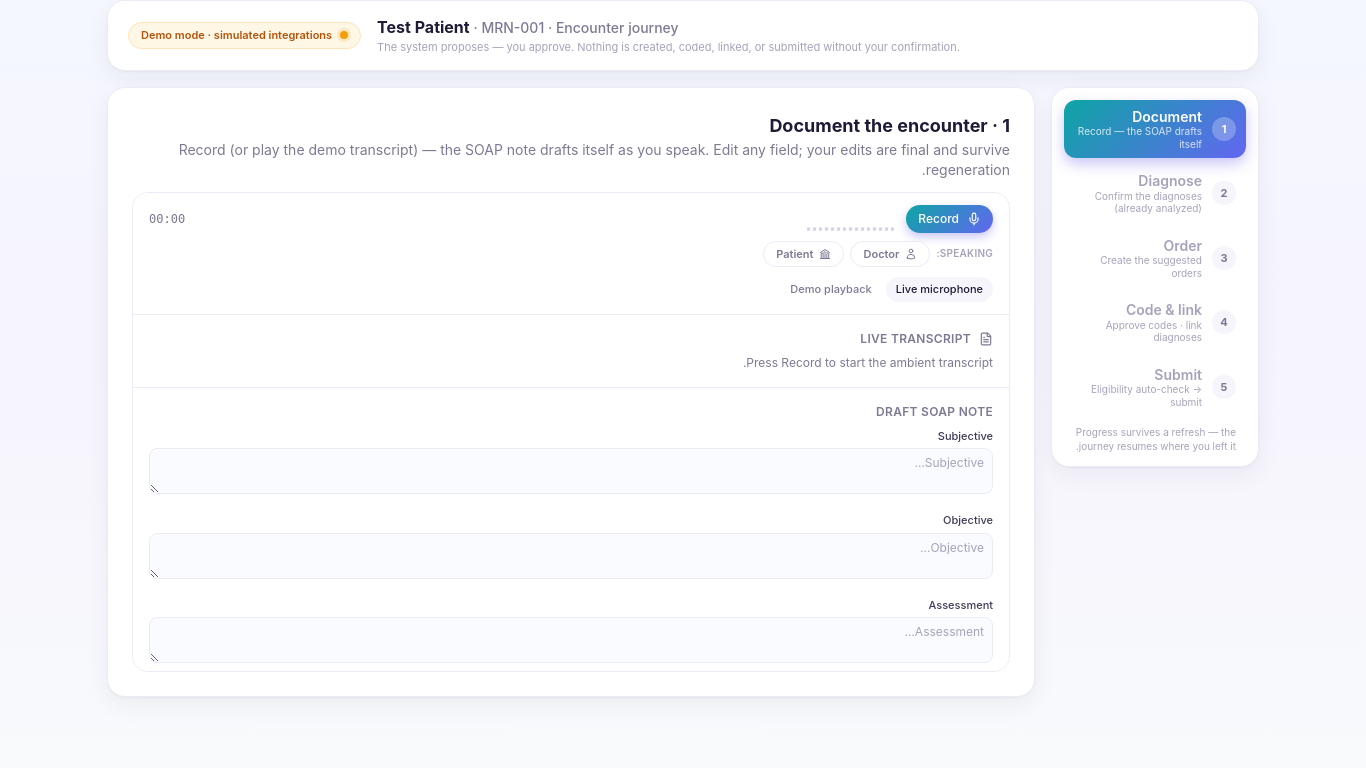
Test case: JourneyView › veto empties the selection and disables creation
Click the button "3 Order Create the suggested orders" at (1155, 258), box [1064, 228, 1246, 287]
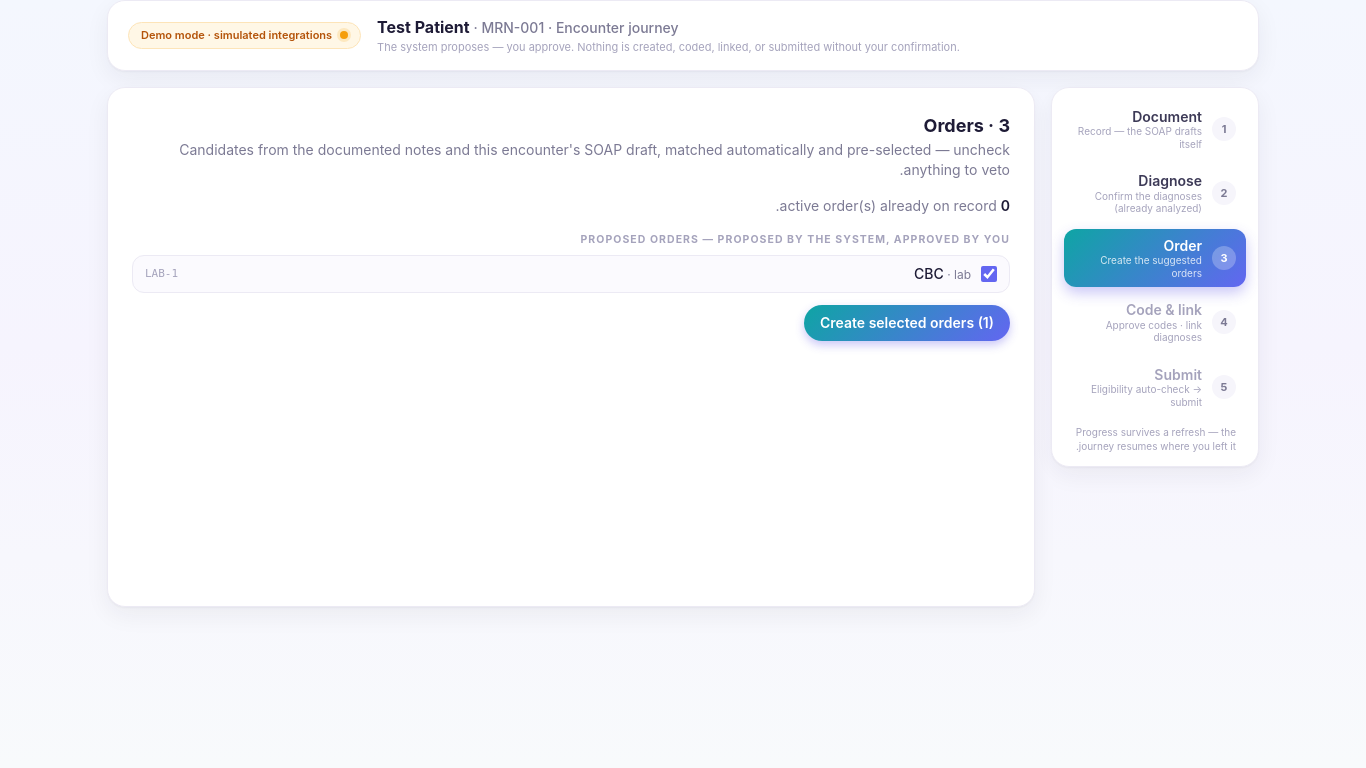
Click the checkbox named "CBC" at (989, 274), box [981, 266, 997, 282]
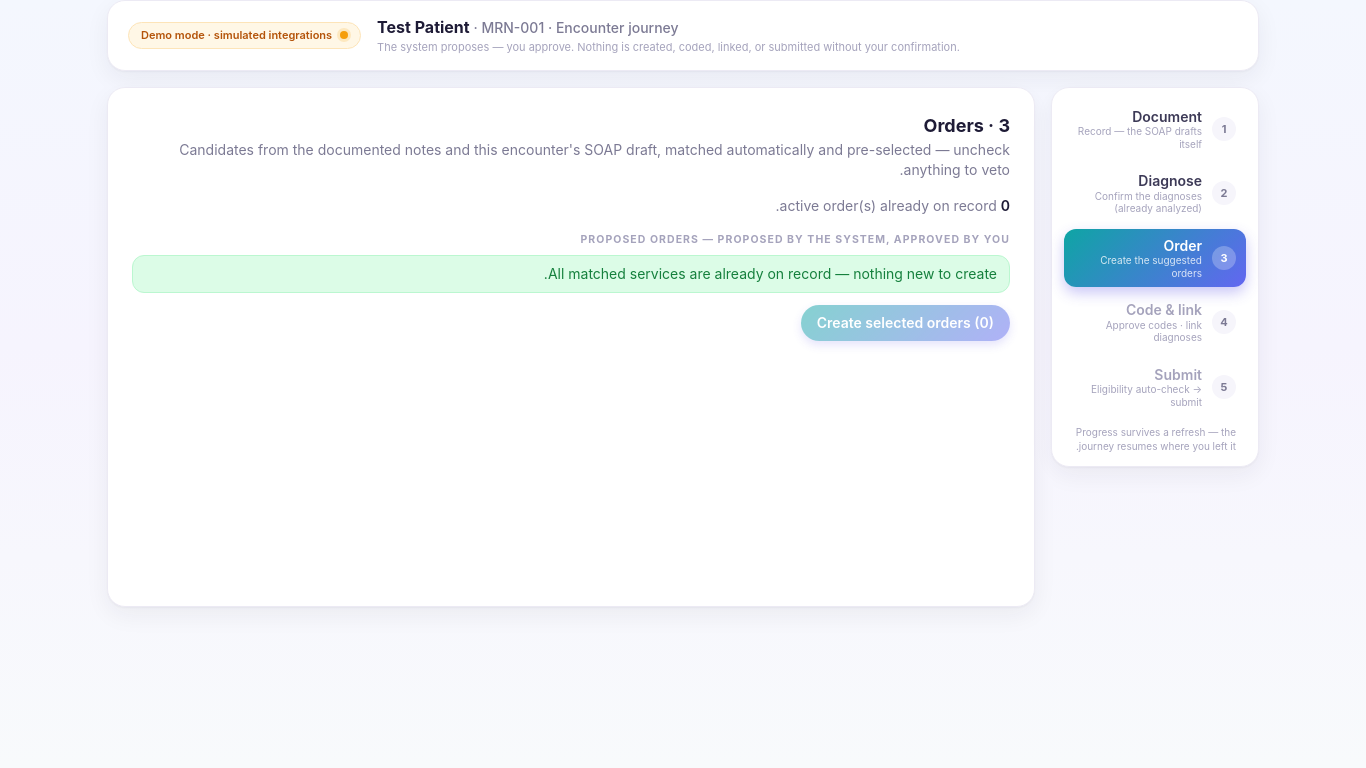
Expected: the button with test id "create-selected-orders" is disabled, [801, 305, 1010, 341]
